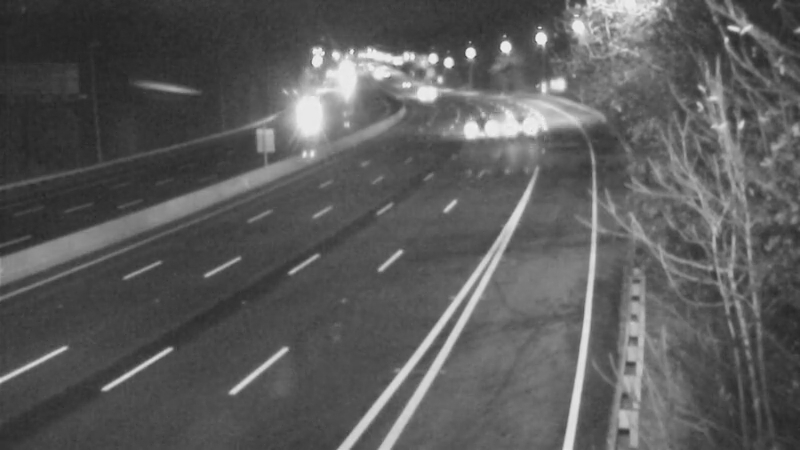vehicle: (378, 57, 428, 107), (398, 68, 448, 118), (452, 99, 502, 149), (490, 101, 540, 151), (285, 85, 335, 135)
